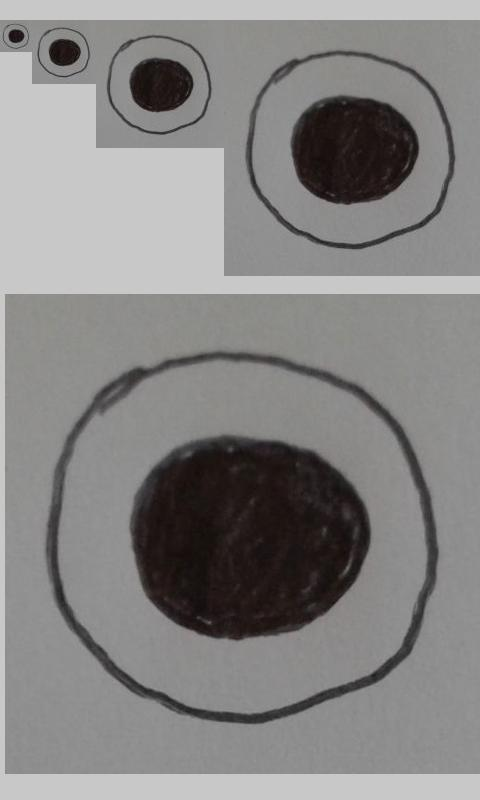radio_button: (46, 347, 441, 728), (243, 46, 458, 252), (105, 31, 213, 136), (36, 26, 91, 78), (2, 23, 30, 49)
